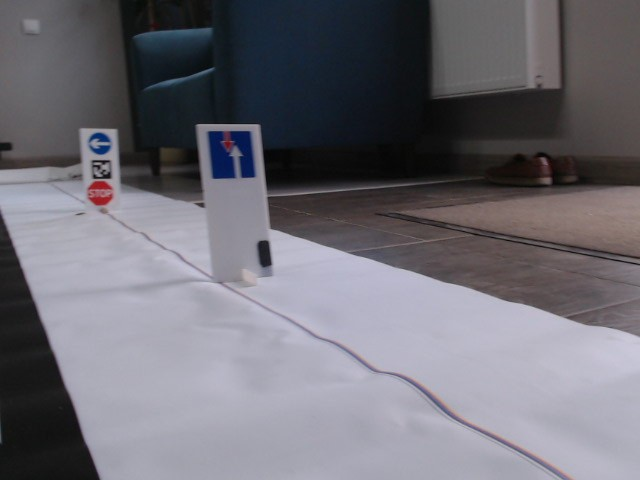Stop: (85, 180, 113, 206)
priority_movement: (207, 129, 256, 180)
